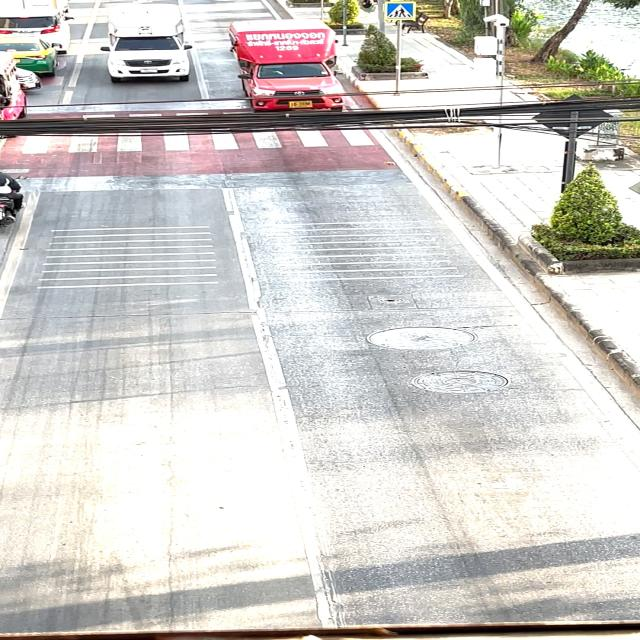car: (222, 17, 365, 119), (82, 2, 208, 90)
